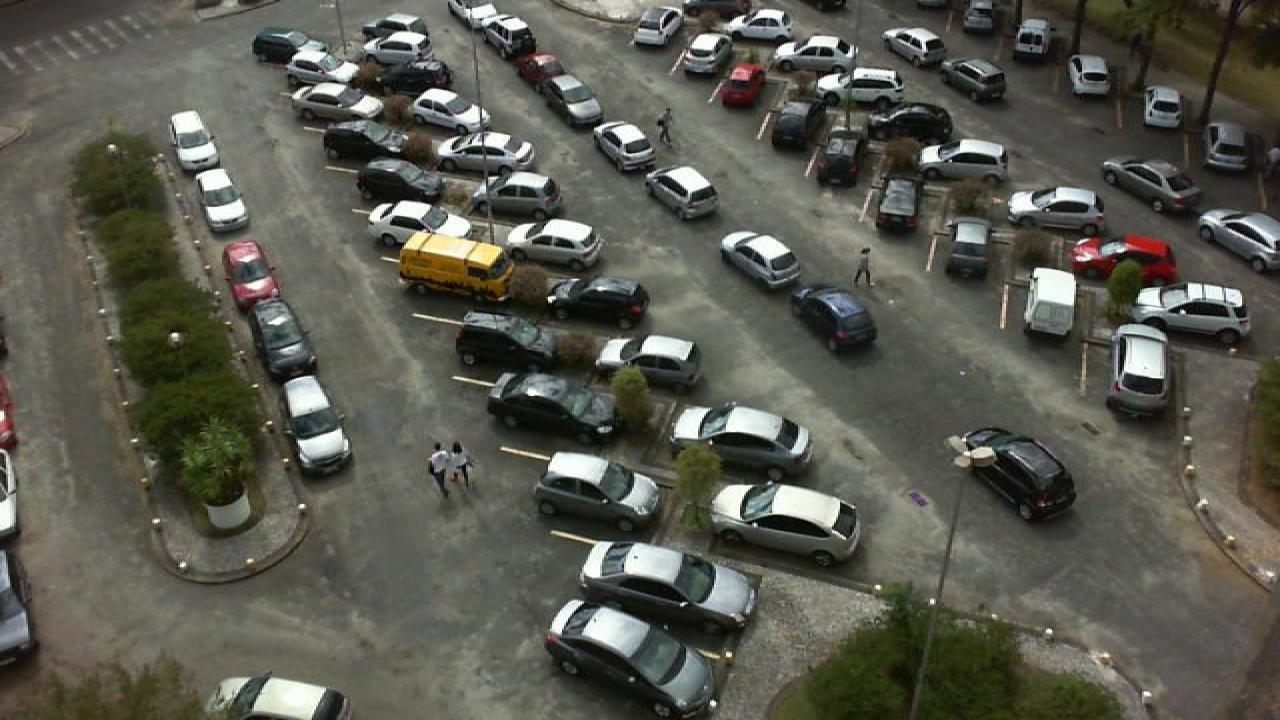Car: (542, 601, 720, 720), (578, 538, 762, 638), (708, 480, 862, 568), (952, 426, 1078, 521), (670, 402, 818, 479), (534, 449, 666, 532), (486, 368, 620, 443), (1130, 279, 1258, 342), (280, 373, 356, 476), (198, 670, 354, 720), (454, 312, 564, 376), (1104, 322, 1174, 420), (1064, 233, 1182, 290), (790, 282, 882, 354), (594, 332, 706, 388), (1100, 156, 1204, 216), (362, 199, 474, 253), (718, 228, 806, 292), (1198, 206, 1280, 272), (1002, 185, 1108, 235), (248, 298, 316, 375), (502, 217, 604, 268), (548, 276, 652, 325), (352, 155, 448, 204), (476, 170, 566, 222), (432, 130, 538, 174), (222, 237, 280, 307), (916, 138, 1008, 182), (288, 80, 386, 121), (408, 86, 494, 132), (192, 168, 250, 235), (644, 165, 720, 216), (322, 118, 408, 162), (868, 101, 956, 143), (942, 215, 998, 280), (816, 69, 904, 110), (768, 34, 858, 72), (592, 120, 656, 170), (942, 56, 1010, 103), (766, 96, 822, 152), (1198, 119, 1256, 173), (286, 47, 364, 87), (374, 57, 456, 94), (546, 73, 604, 123), (878, 26, 952, 65), (168, 108, 216, 168), (870, 181, 922, 235), (250, 26, 320, 66), (482, 10, 538, 60), (814, 132, 864, 186), (714, 62, 770, 108), (628, 5, 686, 48), (678, 30, 732, 76), (360, 28, 430, 63), (1068, 53, 1116, 99), (1138, 84, 1186, 130), (730, 7, 796, 40), (514, 50, 572, 86), (1012, 16, 1052, 60), (450, 0, 502, 30), (372, 12, 426, 40), (960, 0, 1002, 34)
